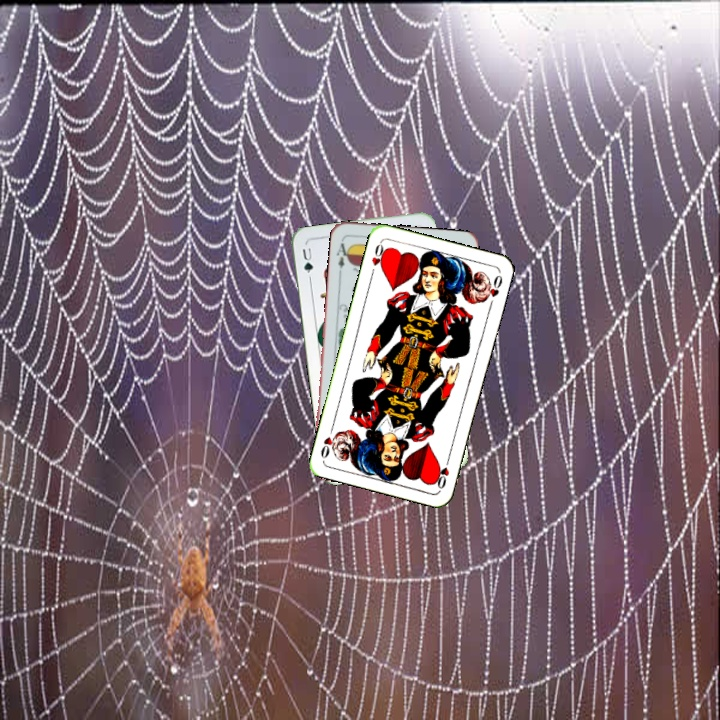EA: (332, 235, 353, 276)
GU: (298, 244, 316, 282)
HO: (367, 238, 389, 278), (432, 452, 453, 492)
